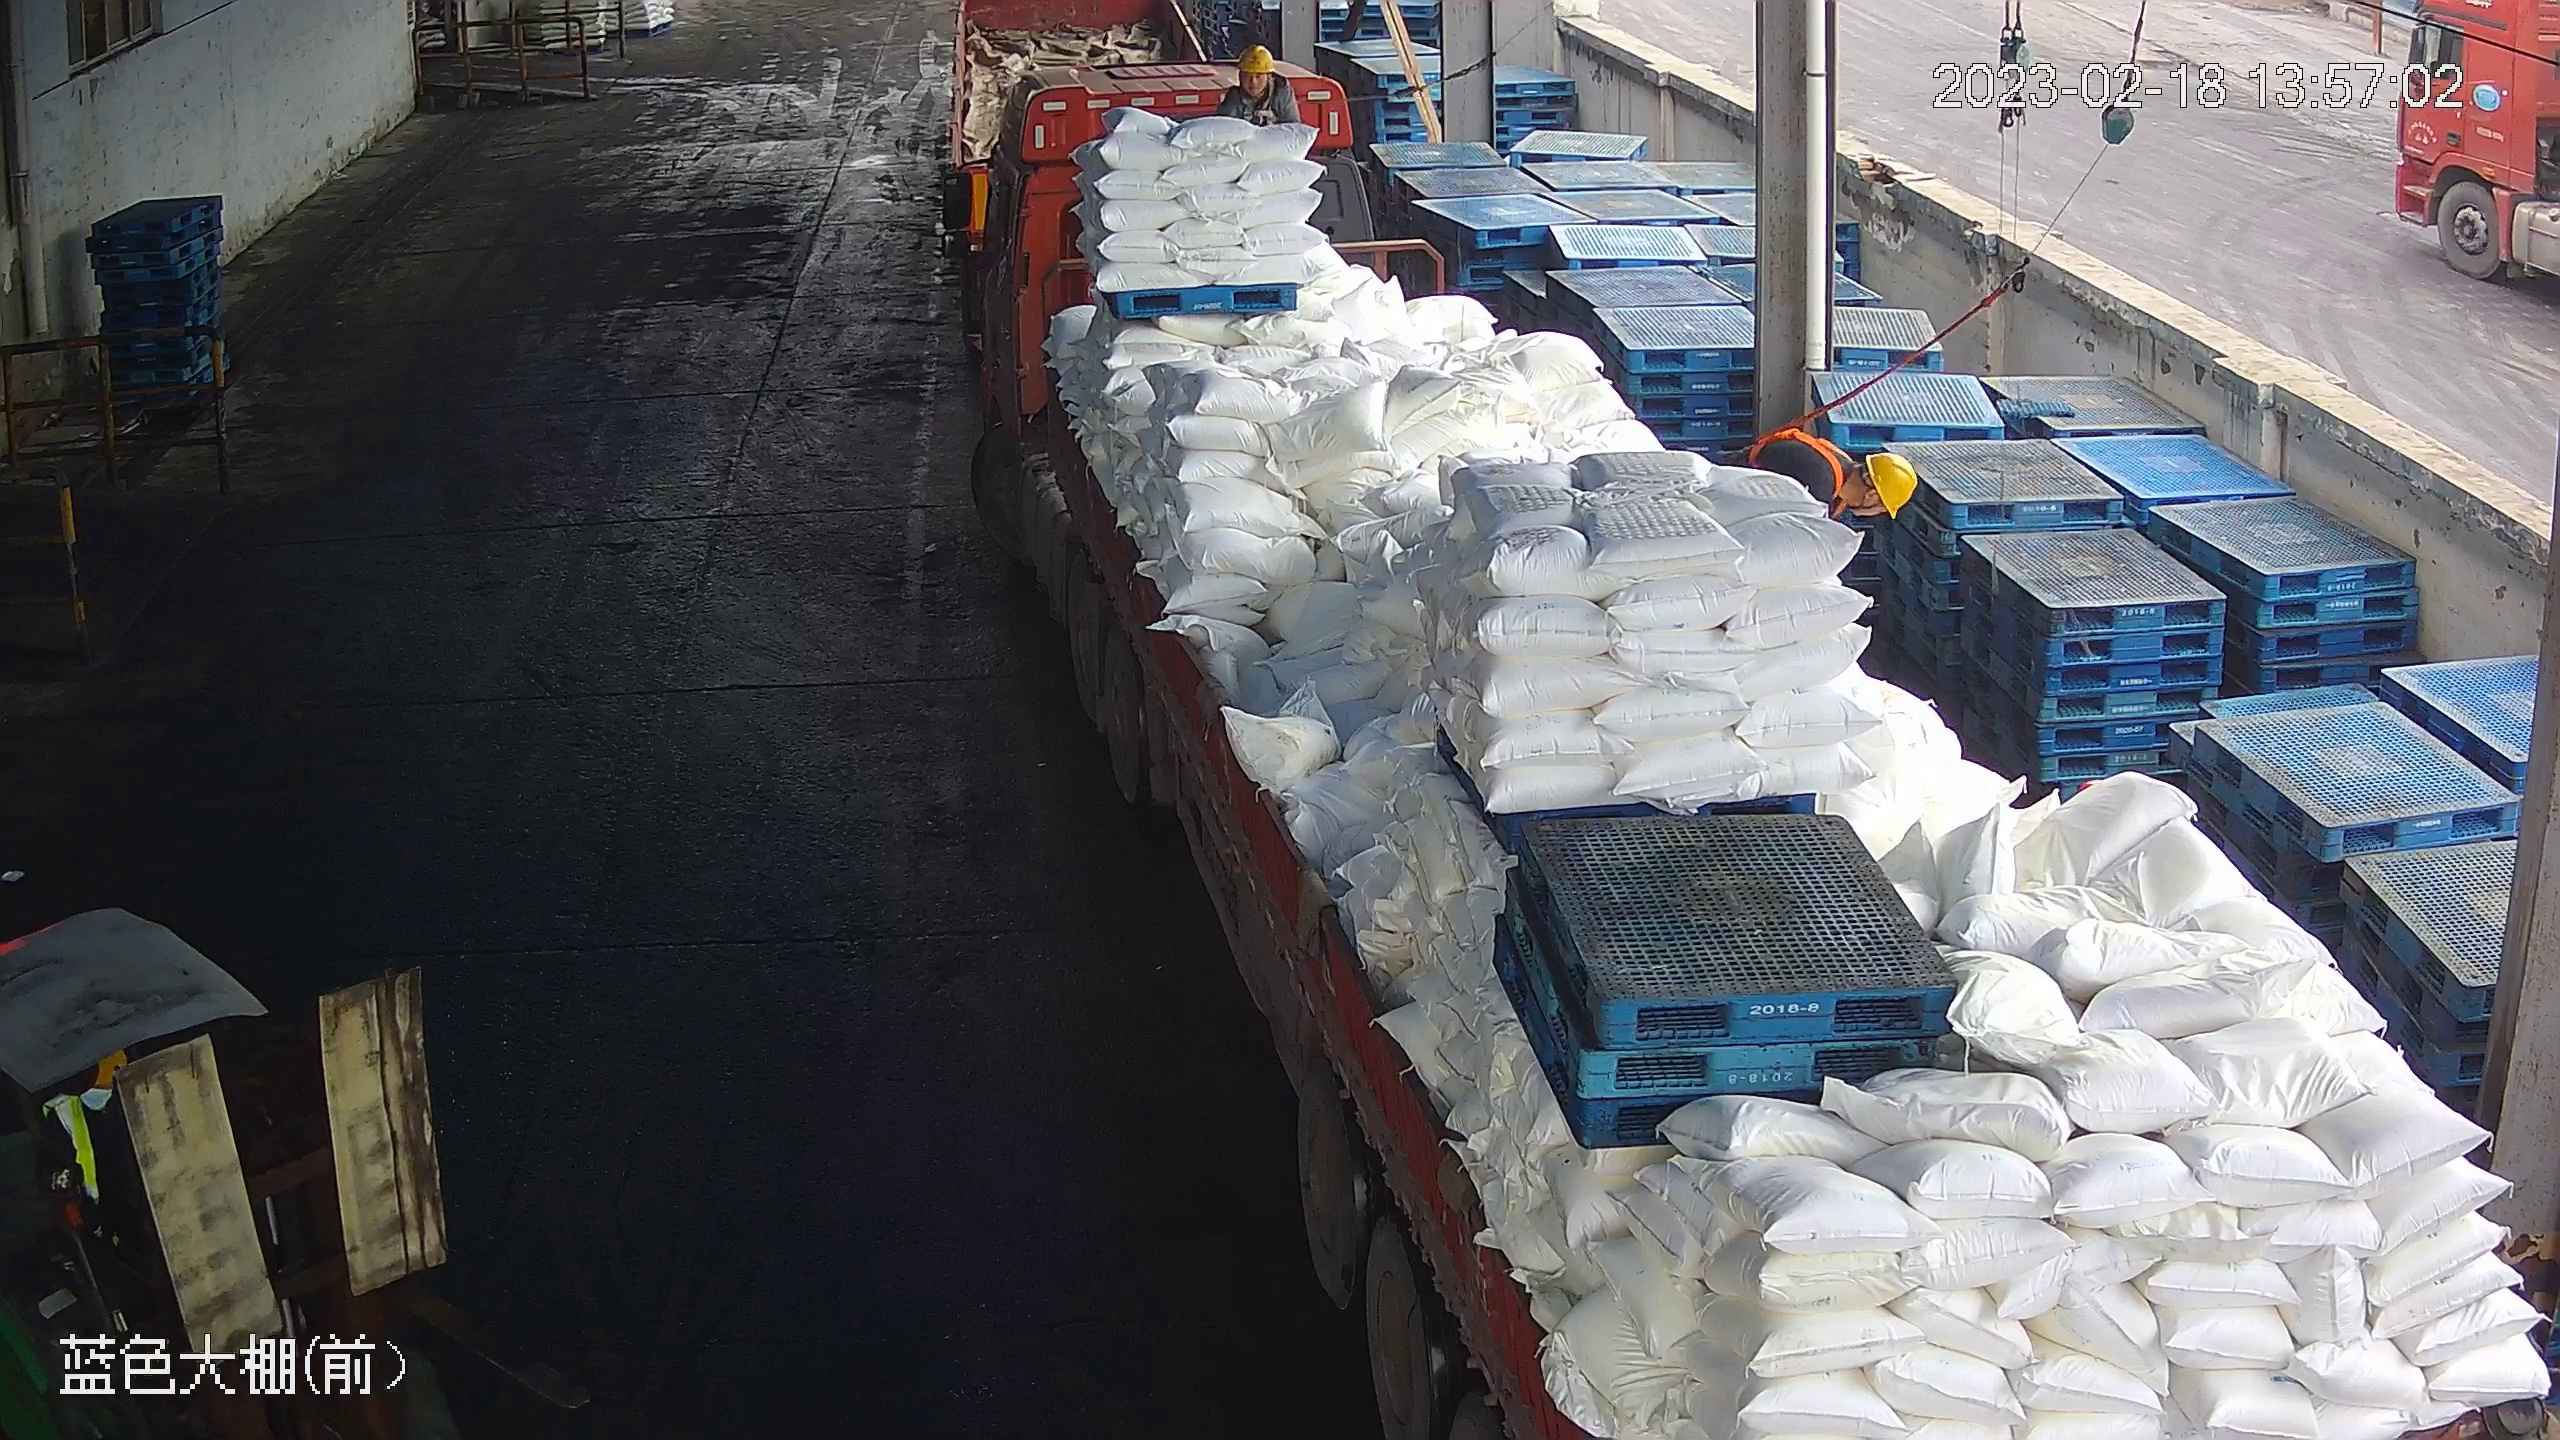belt: (1758, 414, 1849, 506), (1232, 82, 1281, 122)
head: (1763, 424, 1922, 529), (1219, 43, 1293, 102)
helmet: (1862, 446, 1923, 523), (1239, 42, 1277, 74)
truck: (936, 46, 2559, 1440)
